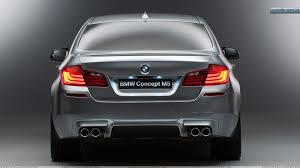car: (44, 10, 247, 163)
